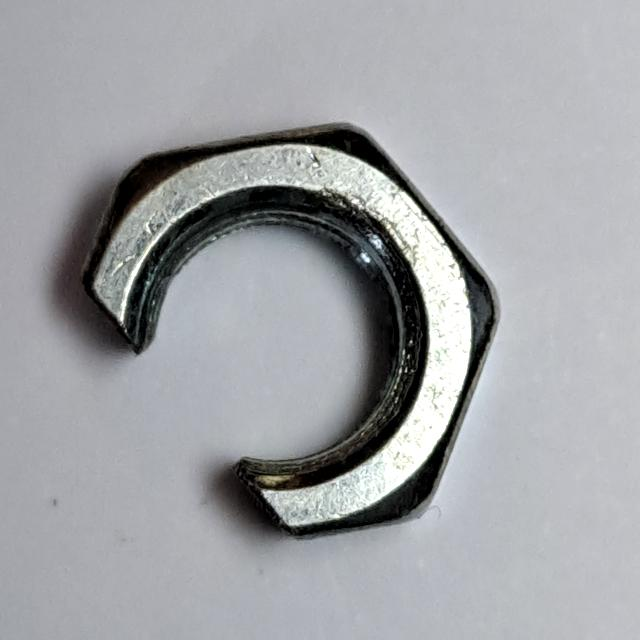Fracture: (70, 113, 511, 551)
